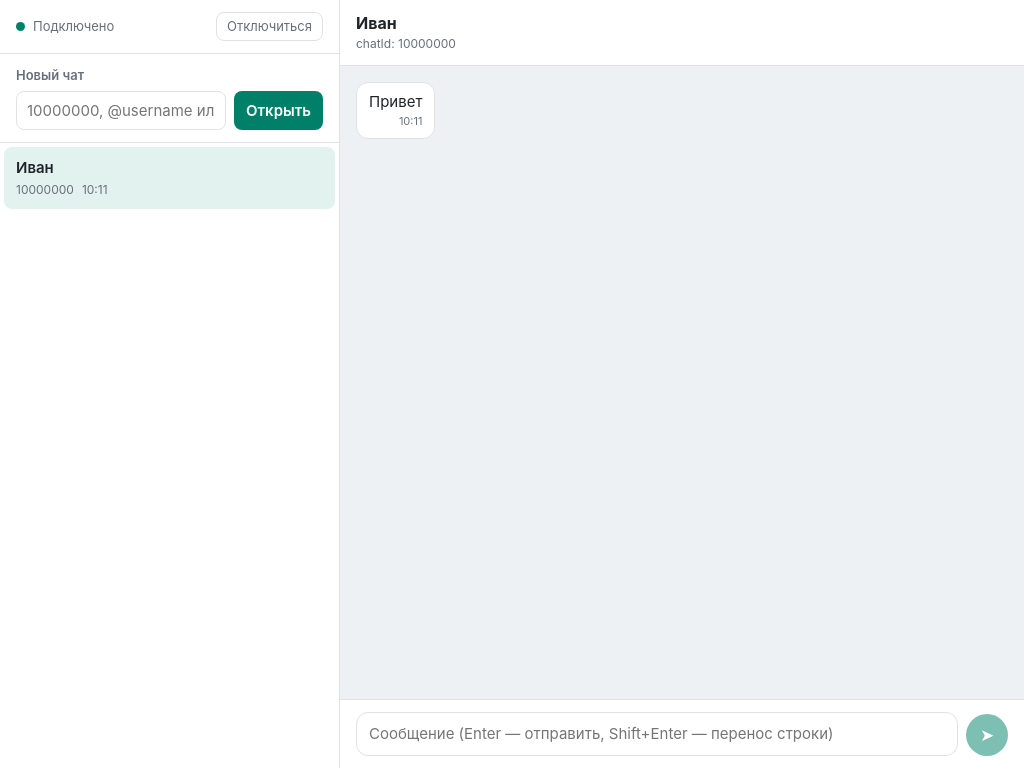
it: Отправка сообщений › отправляет сообщение и не дублирует его при приходе собственного вебхука
This screenshot has width=1024, height=768.
Expected: the text "Привет" is shown, x1=369 y1=91 x2=422 y2=112
In the text box named "Текст сообщения": (657, 734) x1=356 y1=712 x2=958 y2=756, type "Исходящее"
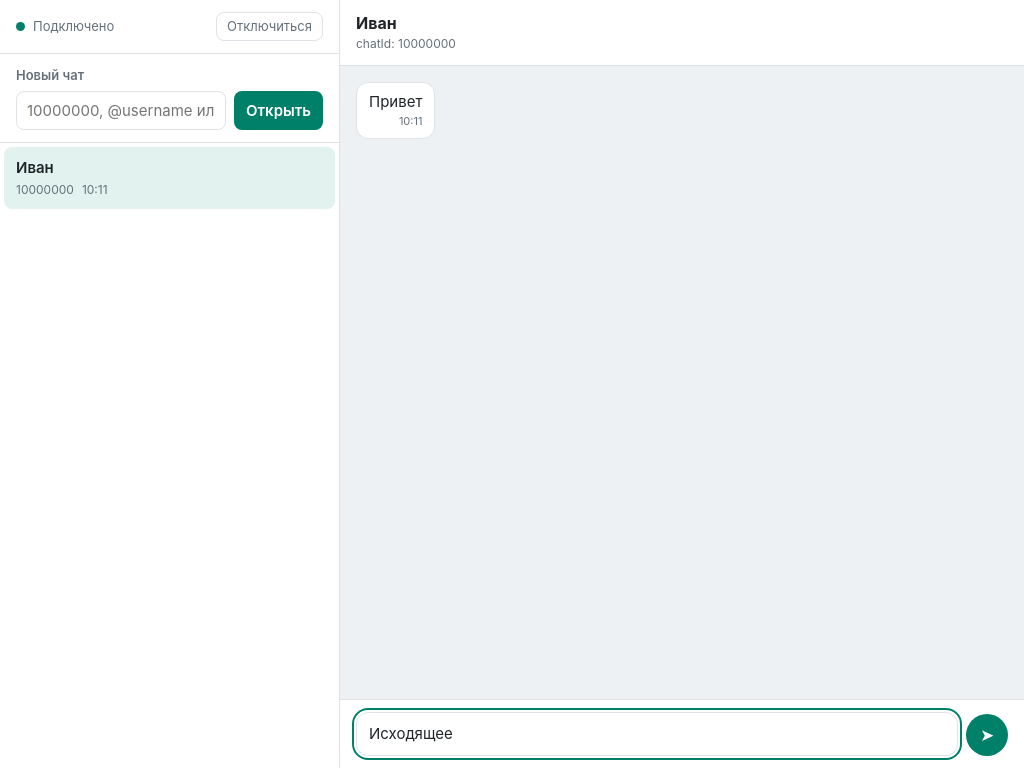
Click the button named "Отправить сообщение": (987, 735) x1=966 y1=714 x2=1008 y2=756
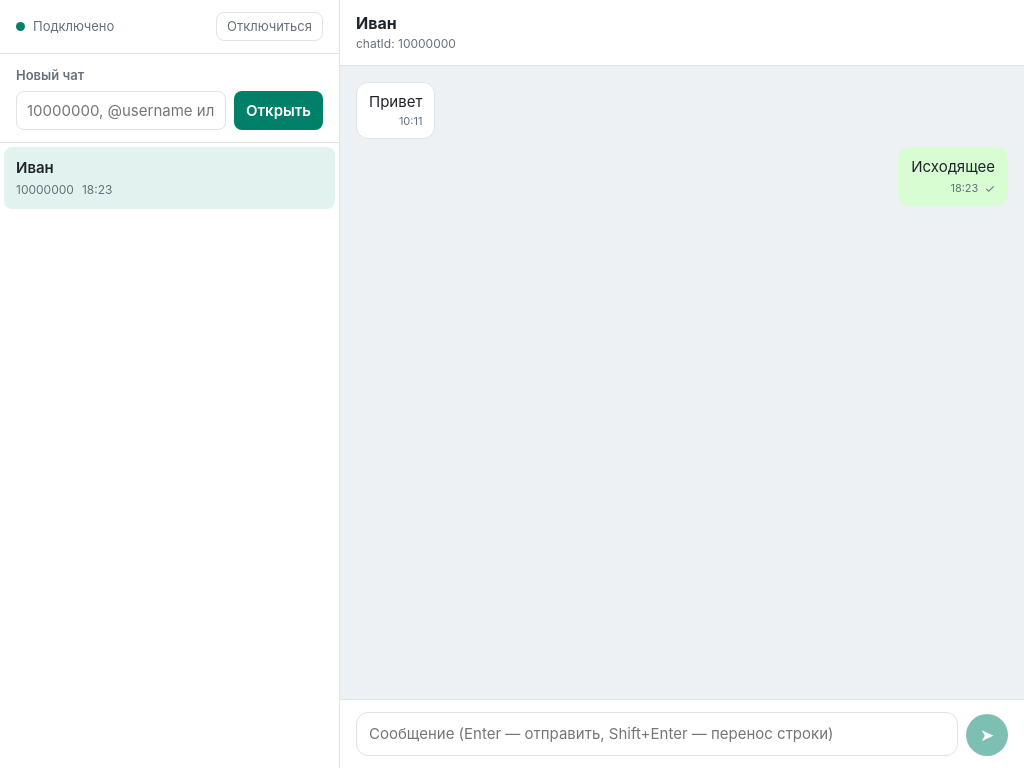
Expected: the text "Исходящее" is shown once, x1=911 y1=156 x2=995 y2=178
